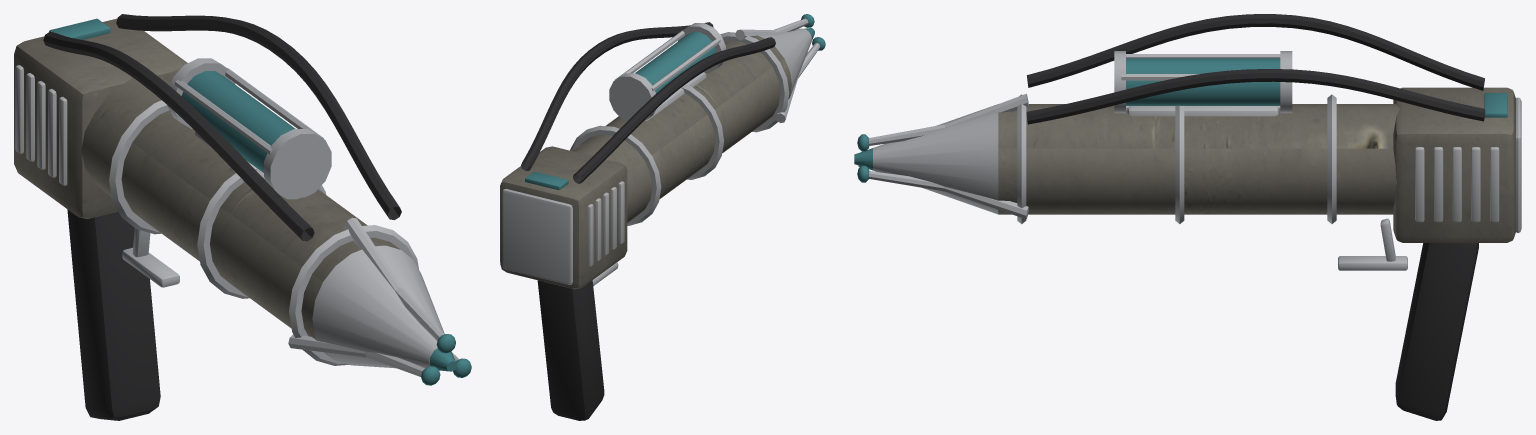
Rendered from Agulha.fbx.
3 renders of one model, left to right at view 1: azimuth 30°, elevation 25°; view 2: azimuth 150°, elevation 25°; view 3: azimuth 270°, elevation 25°, orthographic. The views are drawn at different scales.
Visible parts, largest first — view 1: Agulha; view 2: Agulha; view 3: Agulha.
Part boxes in pixels (box(x1,y1,x2,y2)): Agulha: box(14, 14, 471, 420); Agulha: box(500, 14, 825, 420); Agulha: box(854, 14, 1521, 420).
Bounding box in the file's own units: 0.123 × 0.3511 × 0.57.
